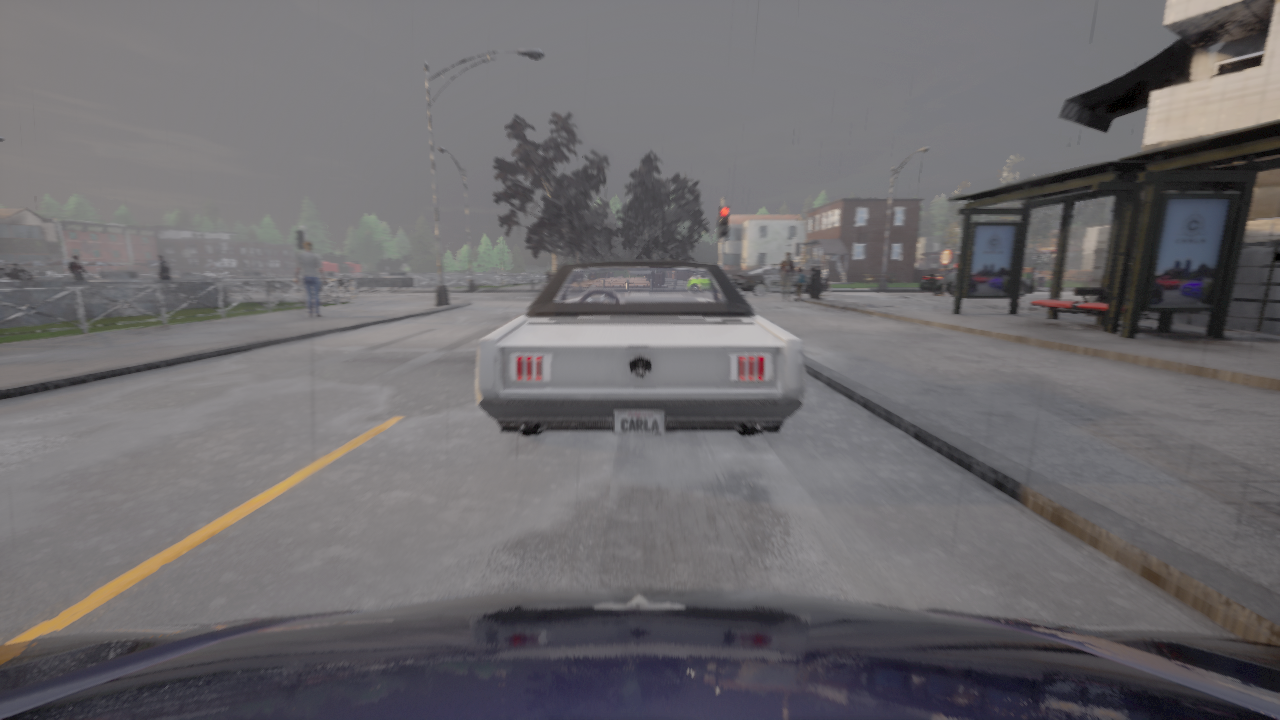cyclist: (0, 588, 1279, 719), (475, 261, 805, 436), (729, 263, 829, 296), (919, 268, 1033, 295)
pedestrian: (295, 241, 325, 317), (779, 252, 794, 302), (67, 254, 89, 280), (156, 255, 171, 280), (796, 269, 804, 298)
